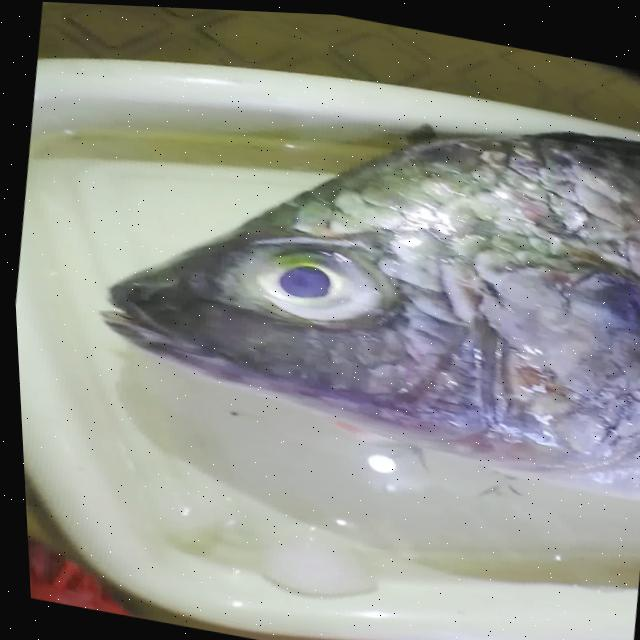Fresh: (226, 221, 417, 349)
